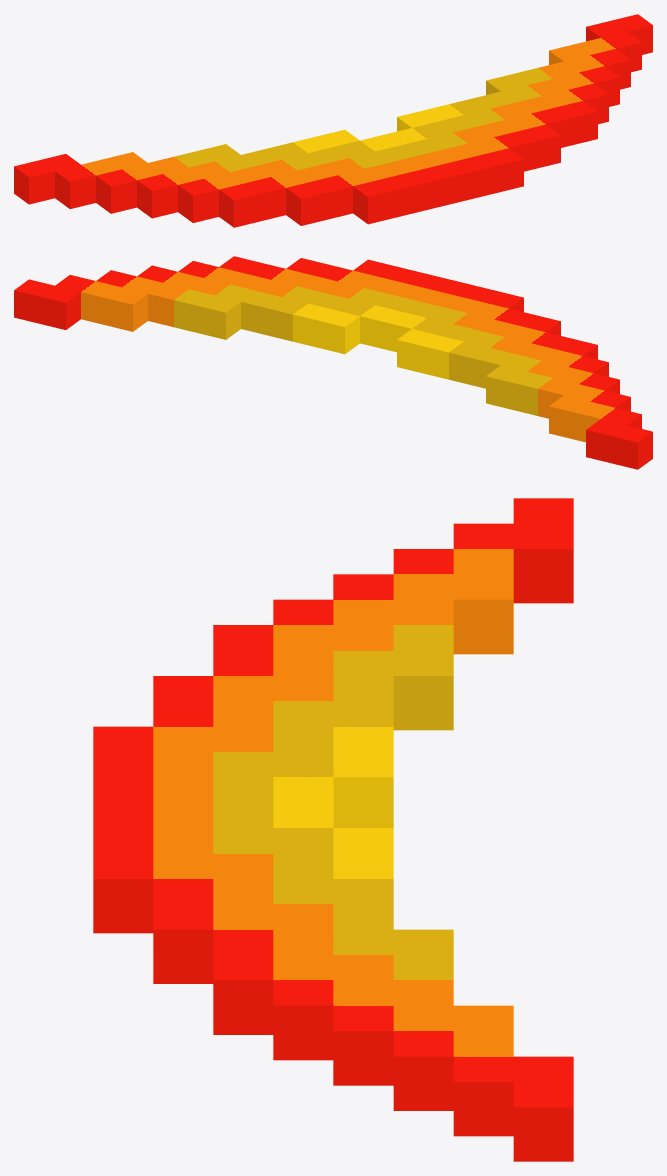
The model's file is 赤炎剑气.gltf.
The picture shows the model from 3 angles, top to bottom: view 1: azimuth 30°, elevation 25°; view 2: azimuth 150°, elevation 25°; view 3: azimuth 270°, elevation 25°; orthographic projection. The views are drawn at different scales.
Parts seen in each view (by area): view 1: Object; view 2: Object; view 3: Object.
Part boxes in pixels (bbox=[...]): Object: bbox=[14, 14, 652, 227]; Object: bbox=[14, 256, 652, 469]; Object: bbox=[93, 498, 573, 1161].
Size of the model in its own units: 24 by 1 by 8.
1 material, 1 textured.
